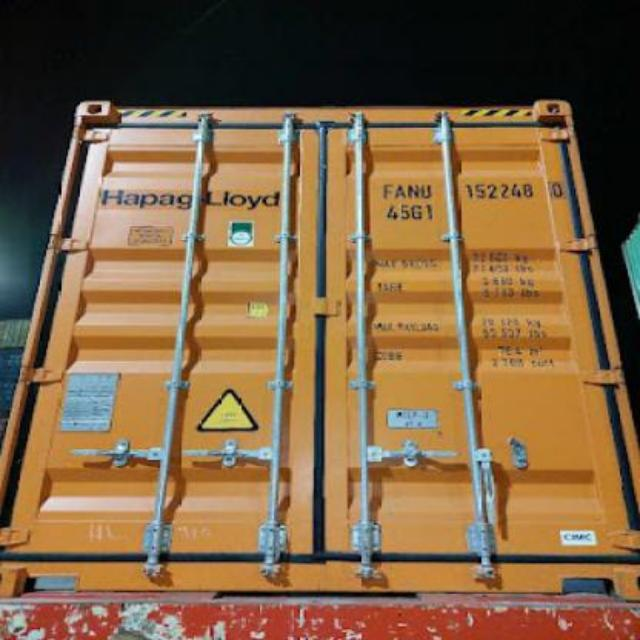0: (546, 178, 568, 202)
1: (464, 179, 474, 197)
2: (484, 178, 498, 202), (496, 178, 509, 200)
4: (508, 178, 522, 202)
5: (474, 180, 488, 198)
8: (522, 176, 536, 202)
A: (394, 182, 408, 198)
F: (381, 178, 394, 200)
N: (406, 174, 419, 202)
U: (418, 178, 434, 200)
